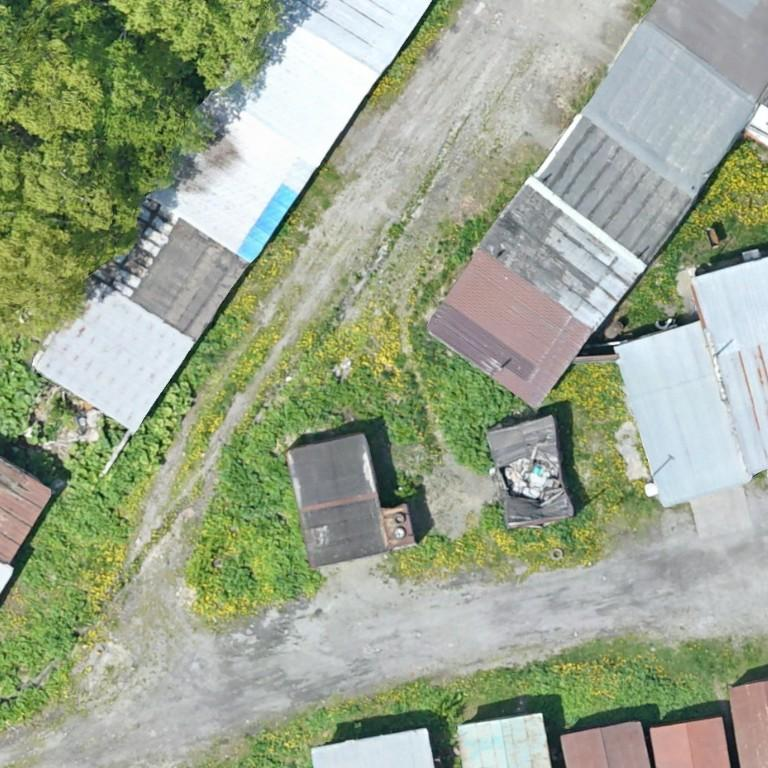hogweed: (223, 384, 355, 596), (18, 456, 141, 584), (420, 337, 523, 471), (0, 586, 84, 693), (0, 687, 45, 723), (223, 560, 257, 597)
